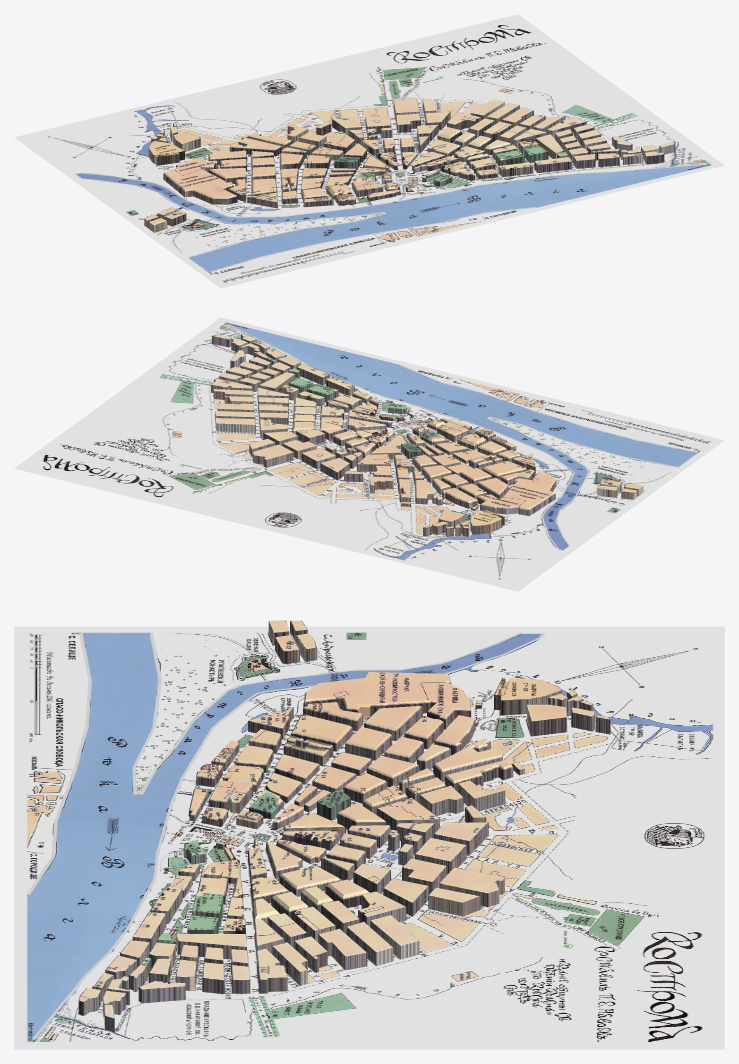
The model's file is narodnost2.dae.
The picture shows the model from 3 angles, top to bottom: view 1: azimuth 30°, elevation 25°; view 2: azimuth 150°, elevation 25°; view 3: azimuth 270°, elevation 25°; orthographic projection. The views are drawn at different scales.
Visible parts, largest first — view 1: Plane; view 2: Plane; view 3: Plane.
Part boxes in pixels (x1,y1,x2,y2): Plane: (14,14,724,288); Plane: (14,317,724,591); Plane: (14,620,724,1049).
Bounding box in the file's own units: 2.07 × 1.47 × 0.0331.
54 materials, 1 textured.
